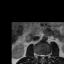CCS_normal: (41, 52, 43, 60)
LFS_normal: (45, 52, 47, 57)
LLS_normal: (43, 53, 45, 59)
RFS_stenosis: (37, 53, 40, 58)
RLS_normal: (39, 53, 41, 58)
